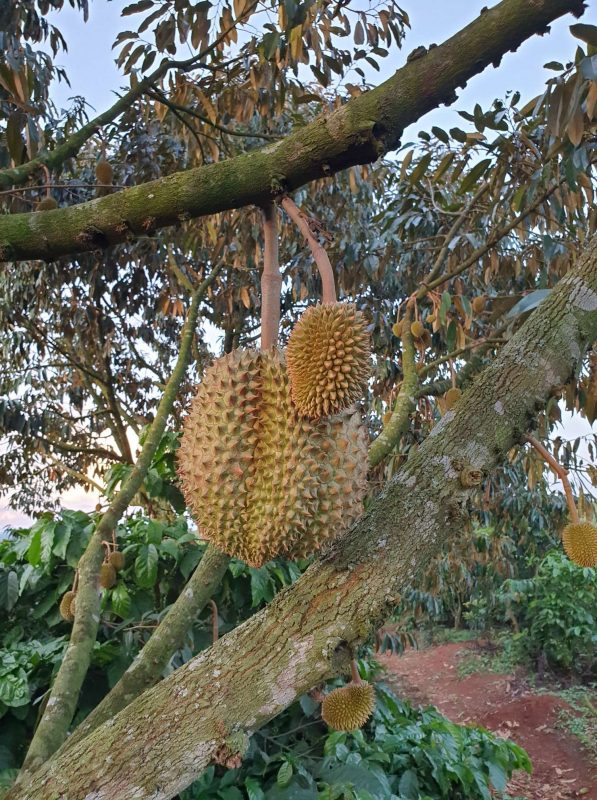sau_rieng: (164, 336, 405, 564)
